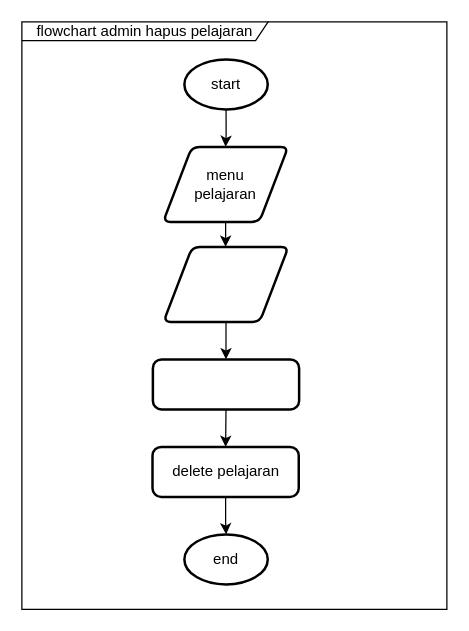
Image size: 469x631. Some labels were removed from this diagram. Each missing label, with the box of its shape:
get id_pelajaran: (151, 358, 300, 410)
hapus pelajaran: (162, 245, 289, 322)
